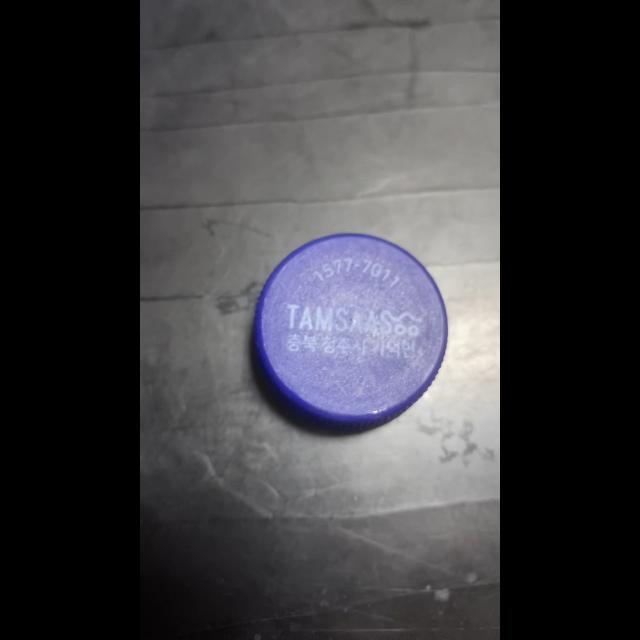plastic_bottle_cap: (247, 222, 459, 443)
